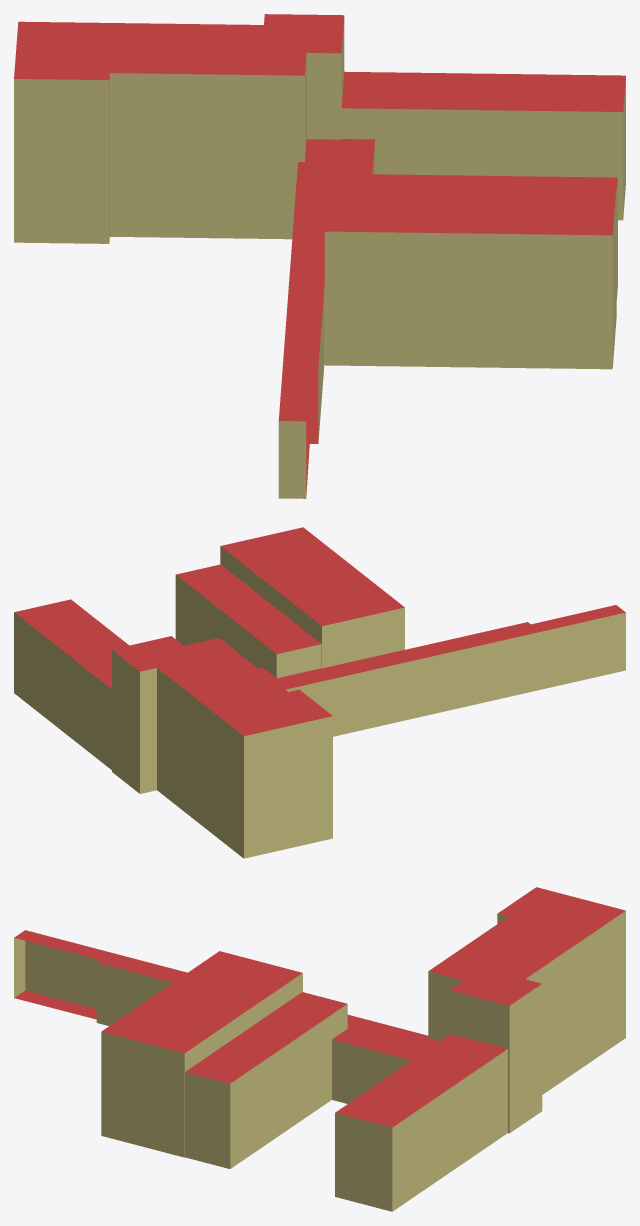
The picture shows the model from 3 angles, top to bottom: view 1: azimuth 30°, elevation 25°; view 2: azimuth 150°, elevation 25°; view 3: azimuth 270°, elevation 25°; orthographic projection. The views are drawn at different scales.
Parts seen in each view (by area): view 1: group_13, group_16, group_10, group_12, group_15, group_6, group_9, group_7, group_3, group_8; view 2: group_13, group_7, group_12, group_15, group_10, group_16, group_4, group_3, group_6, group_9; view 3: group_13, group_10, group_4, group_16, group_12, group_7, group_15, group_9, group_3, group_6, group_8.
Boxes of the visible parts, x1,y1,x2,y2 form: group_13: (14,19,344,243); group_16: (324,185,616,369); group_10: (341,78,625,220); group_12: (14,14,344,80); group_15: (324,178,616,235); group_6: (278,139,374,421); group_9: (341,71,625,111); group_7: (278,143,374,498); group_3: (331,173,617,190); group_8: (306,366,318,495); group_13: (112,650,332,858); group_7: (285,612,625,736); group_12: (112,636,332,736); group_15: (221,527,404,626); group_10: (14,612,111,769); group_16: (220,546,404,668); group_4: (175,575,321,678); group_3: (176,564,320,653); group_6: (259,605,625,689); group_9: (14,599,128,688); group_13: (428,911,625,1133); group_10: (335,1049,507,1211); group_4: (185,1004,347,1168); group_16: (101,973,302,1157); group_12: (428,887,625,1005); group_7: (14,938,411,1103); group_15: (102,951,302,1053); group_9: (335,1034,507,1127); group_3: (185,992,347,1083); group_6: (14,930,439,1060); group_8: (14,990,96,1019).
Size of the model in its own units: 58.43 by 68.24 by 15.68.
